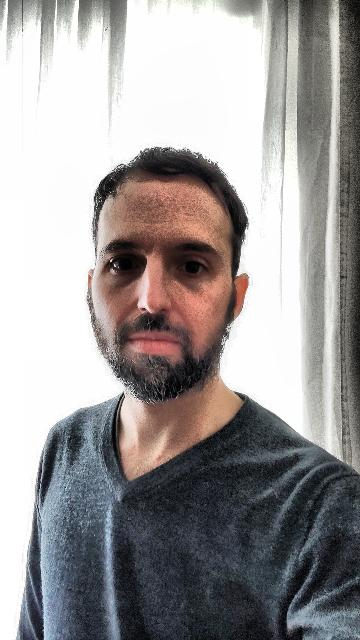neutral: (79, 136, 255, 412)
